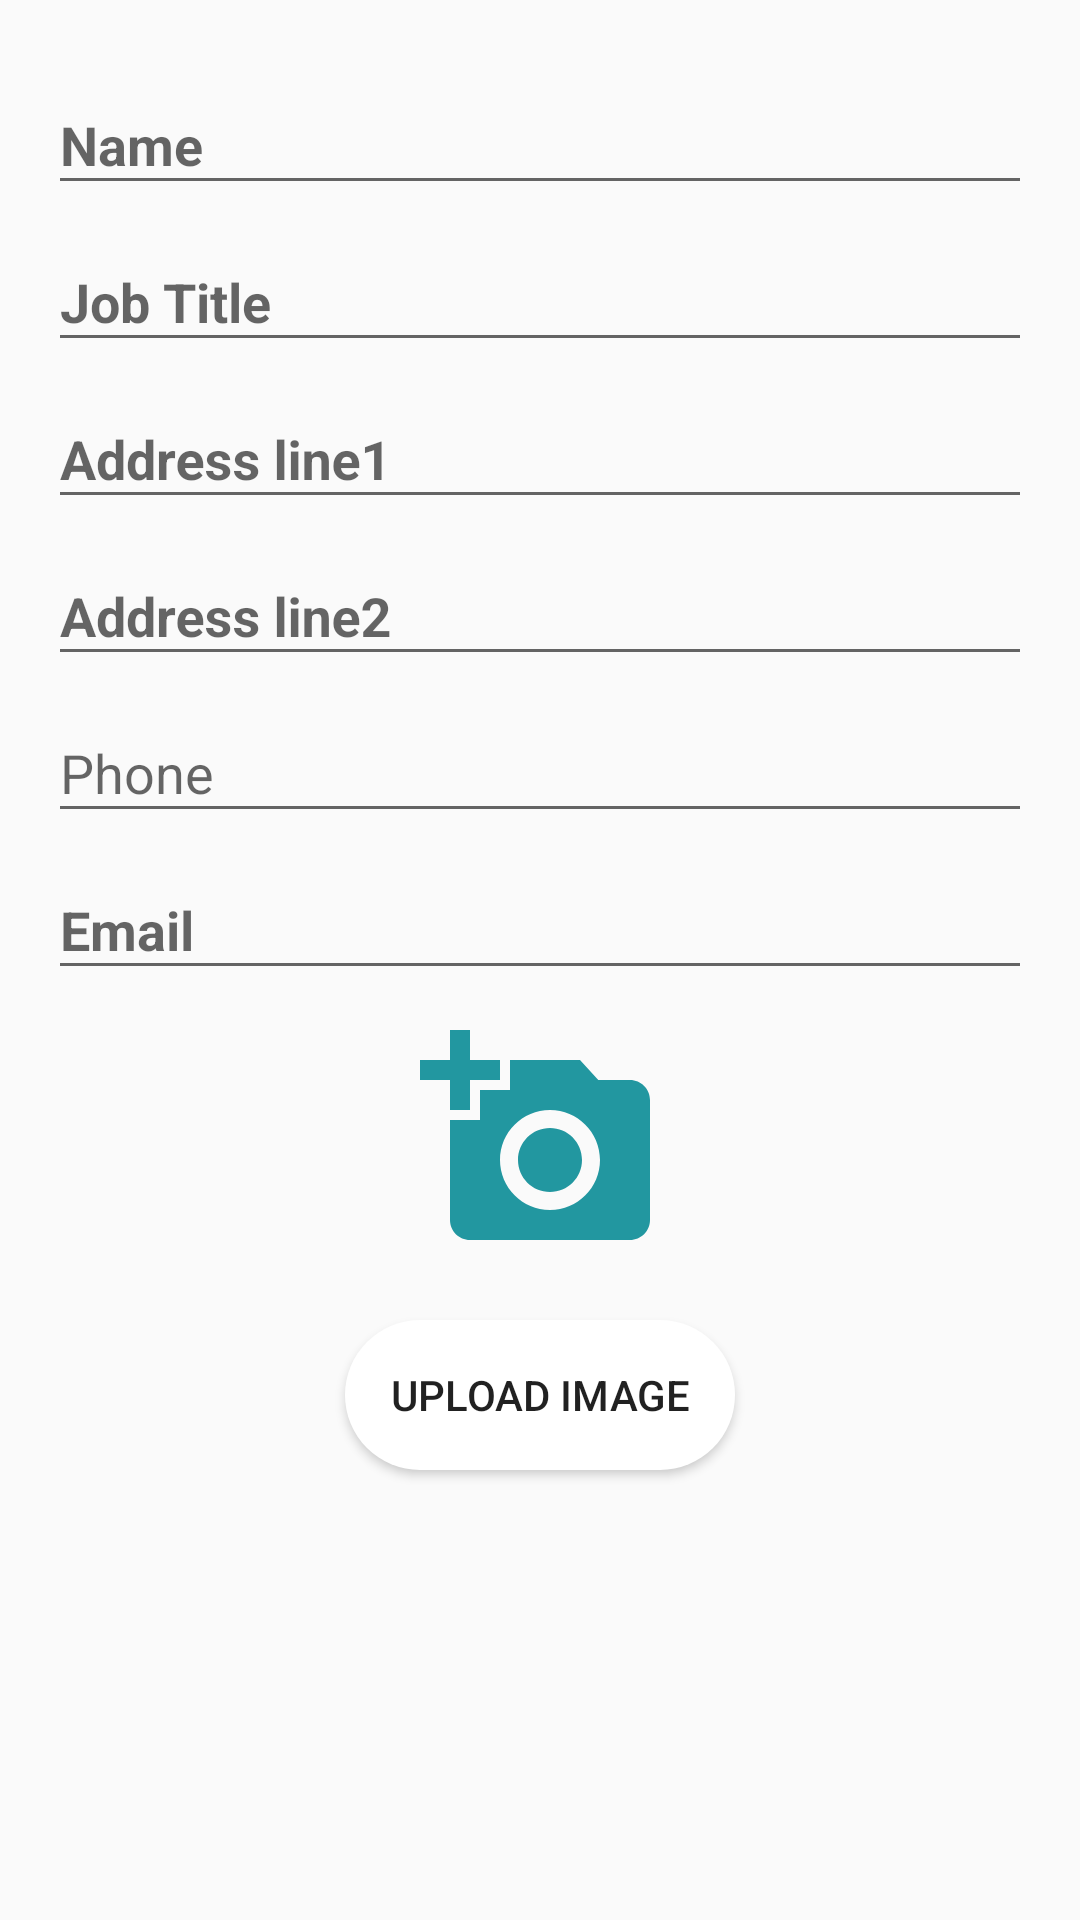

Locate icon controls on the screen. Image size 1080 × 1920, boxes as (x1, y1, x2, y2).
add photo: (420, 1030, 650, 1240)
